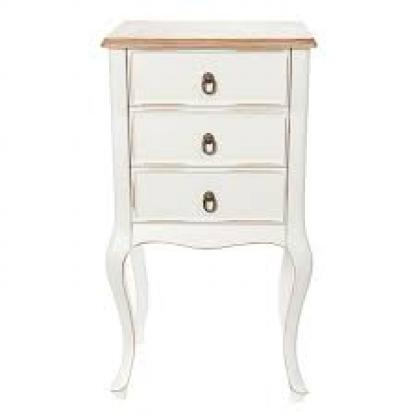Nightstand: (102, 17, 319, 408)
